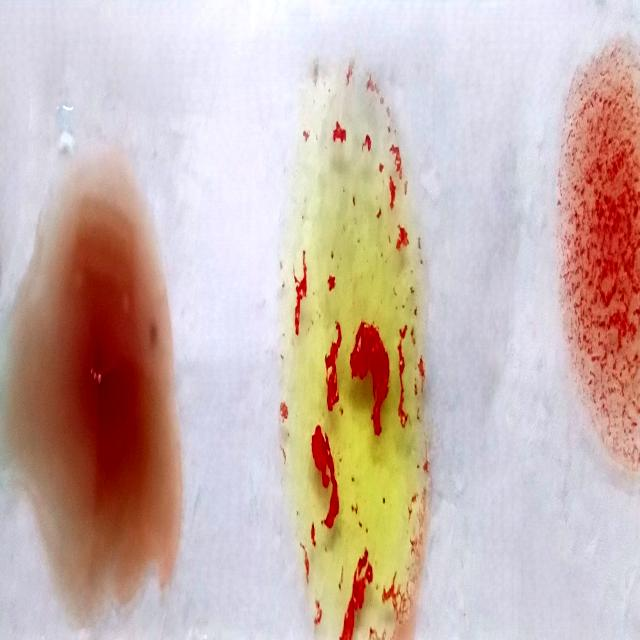B: (285, 73, 425, 640)
D: (555, 53, 640, 485)
